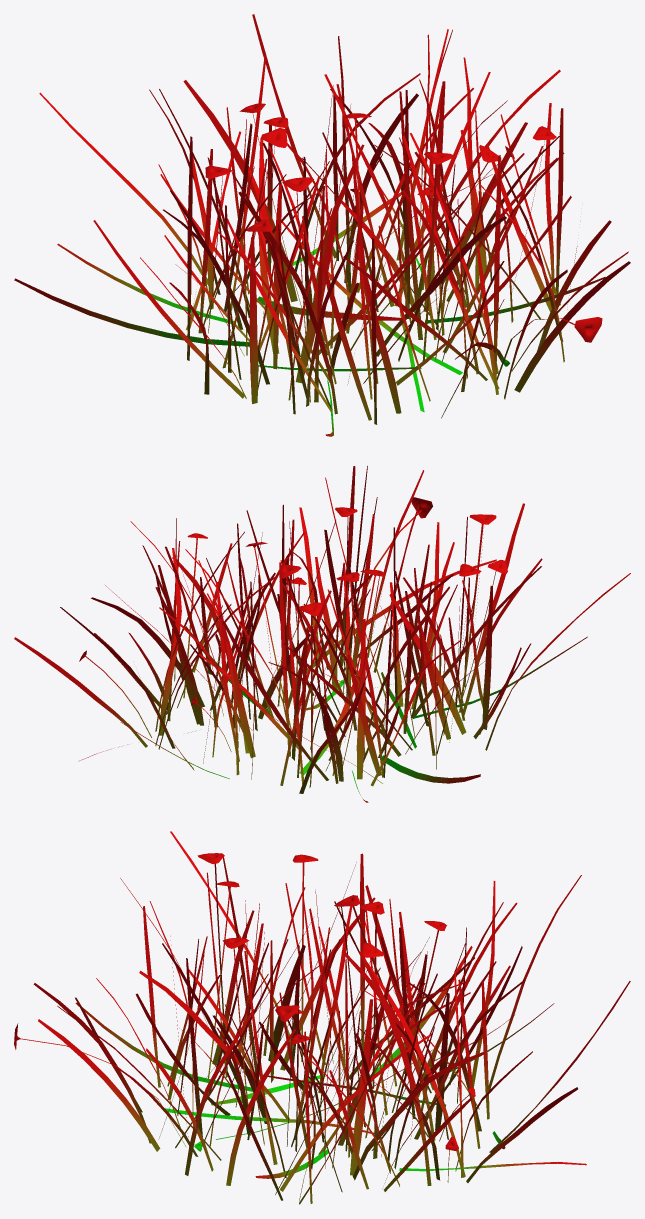
File: Var20_LOD1.fbx
3 views of the same model, one above another, from view 1: azimuth 30°, elevation 25°; view 2: azimuth 150°, elevation 25°; view 3: azimuth 270°, elevation 25° (orthographic). The views are drawn at different scales.
Visible parts, largest first — view 1: _680o_Var20_LOD1; view 2: _680o_Var20_LOD1; view 3: _680o_Var20_LOD1.
Part boxes in pixels (x1=…): _680o_Var20_LOD1: x1=14, y1=14, x2=630, y2=436; _680o_Var20_LOD1: x1=14, y1=466, x2=630, y2=802; _680o_Var20_LOD1: x1=14, y1=831, x2=630, y2=1204.
Bounding box in the file's own units: 28.31 × 12.68 × 32.87.
